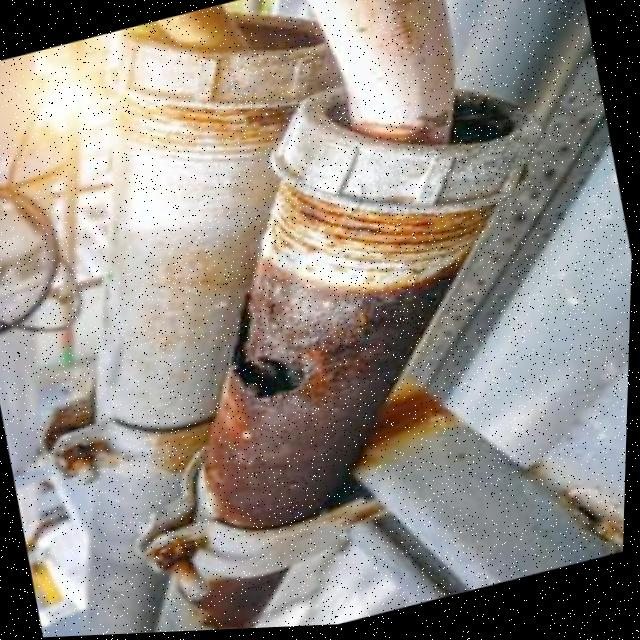hole: (228, 306, 299, 415)
